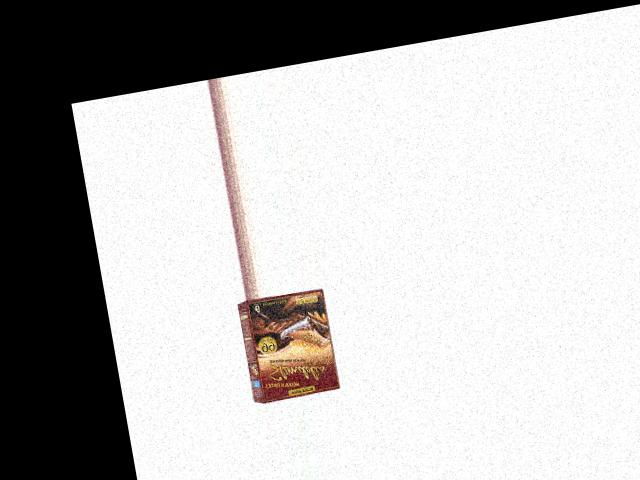chocolate: (231, 285, 350, 407)
